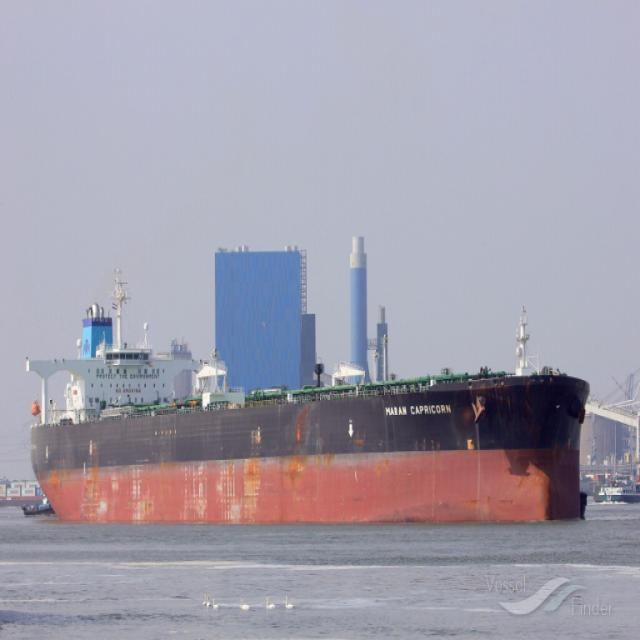Oil Tanker: (26, 297, 588, 524)
